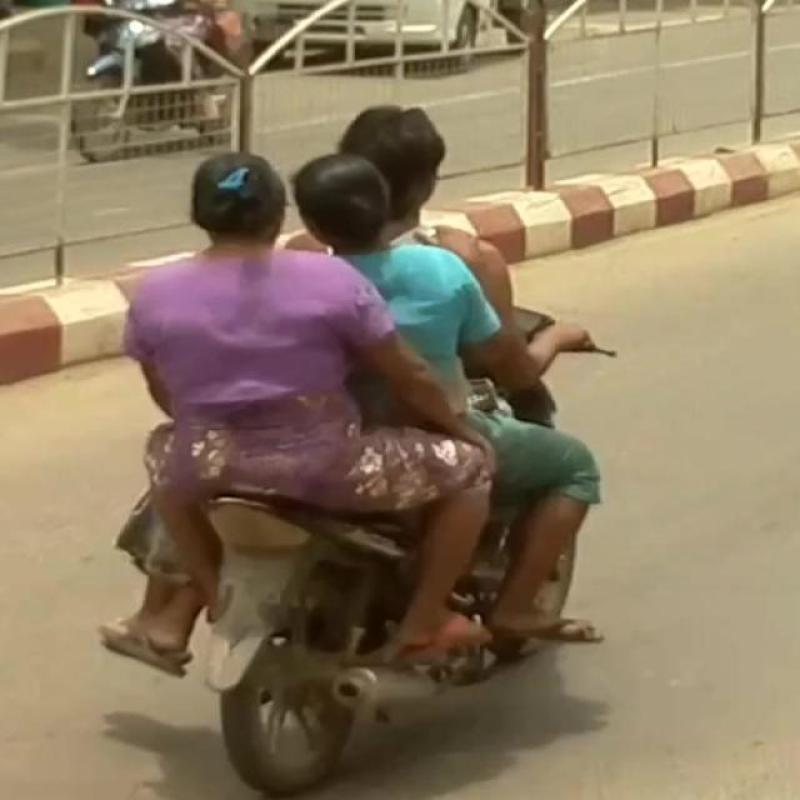nohelmet: (185, 132, 296, 238), (308, 142, 400, 253)
